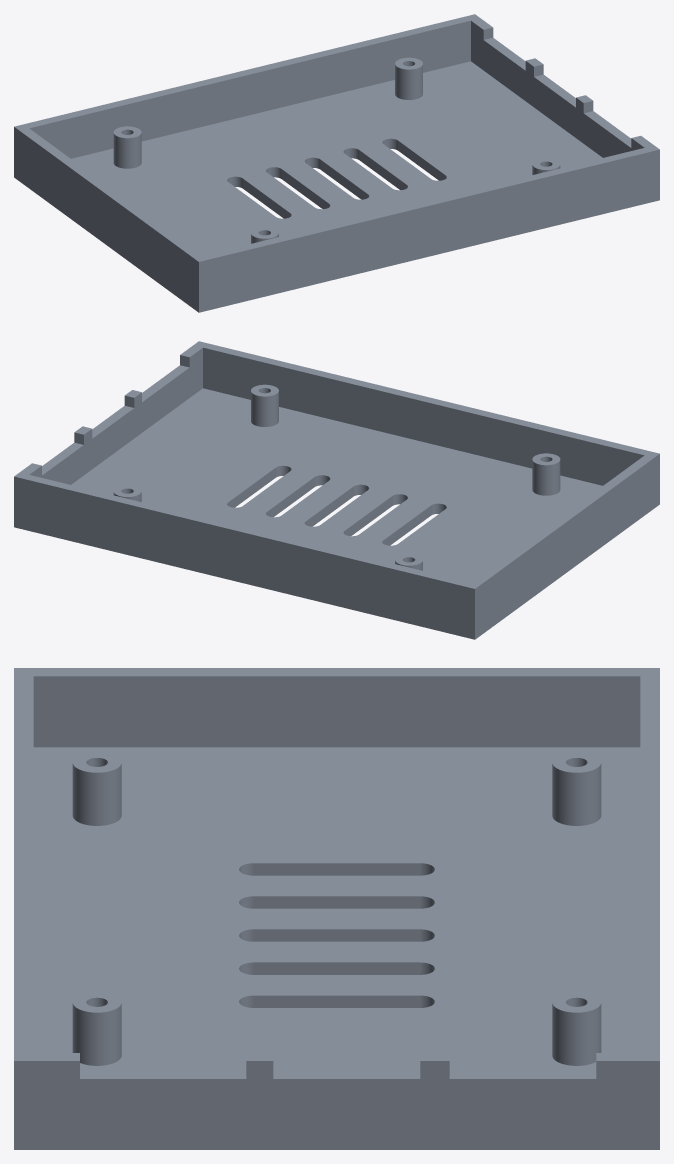
The model's file is step-4-preview-1.glb.
The picture shows the model from 3 angles, top to bottom: view 1: azimuth 30°, elevation 25°; view 2: azimuth 150°, elevation 25°; view 3: azimuth 270°, elevation 25°; orthographic projection. The views are drawn at different scales.
Parts seen in each view (by area): view 1: preview_41, preview_1, preview_8, preview_0, preview_2, preview_7, preview_44, preview_45, preview_14, preview_18, preview_22, preview_26 (+2 smaller); view 2: preview_41, preview_3, preview_10, preview_0, preview_2, preview_7, preview_42, preview_43, preview_14, preview_18, preview_22, preview_26 (+1 smaller); view 3: preview_41, preview_5, preview_9, preview_2, preview_42, preview_44, preview_45, preview_43, preview_12, preview_16, preview_20, preview_24 (+8 smaller).
Part boxes in pixels (x1=…): preview_41: x1=71, y1=61, x2=602, y2=255; preview_1: x1=199, y1=149, x2=659, y2=312; preview_8: x1=29, y1=20, x2=470, y2=158; preview_0: x1=14, y1=127, x2=198, y2=312; preview_2: x1=14, y1=14, x2=659, y2=261; preview_7: x1=471, y1=21, x2=644, y2=157; preview_44: x1=113, y1=133, x2=141, y2=168; preview_45: x1=395, y1=64, x2=422, y2=99; preview_14: x1=242, y1=178, x2=290, y2=218; preview_18: x1=281, y1=169, x2=329, y2=208; preview_22: x1=320, y1=159, x2=367, y2=199; preview_26: x1=359, y1=150, x2=406, y2=190; preview_41: x1=71, y1=388, x2=602, y2=582; preview_3: x1=14, y1=476, x2=474, y2=639; preview_10: x1=203, y1=347, x2=644, y2=485; preview_0: x1=475, y1=454, x2=659, y2=639; preview_2: x1=14, y1=341, x2=659, y2=588; preview_7: x1=29, y1=348, x2=202, y2=484; preview_42: x1=532, y1=460, x2=560, y2=495; preview_43: x1=251, y1=391, x2=278, y2=426; preview_14: x1=383, y1=505, x2=431, y2=545; preview_18: x1=344, y1=496, x2=392, y2=535; preview_22: x1=306, y1=486, x2=353, y2=526; preview_26: x1=267, y1=477, x2=314, y2=517; preview_41: x1=33, y1=747, x2=640, y2=1070; preview_5: x1=14, y1=1061, x2=659, y2=1149; preview_9: x1=33, y1=676, x2=640, y2=747; preview_2: x1=14, y1=668, x2=659, y2=1060; preview_42: x1=72, y1=763, x2=121, y2=825; preview_44: x1=552, y1=763, x2=601, y2=825; preview_45: x1=552, y1=1003, x2=601, y2=1065; preview_43: x1=72, y1=1003, x2=121, y2=1065; preview_12: x1=253, y1=863, x2=420, y2=875; preview_16: x1=253, y1=896, x2=420, y2=908; preview_20: x1=253, y1=929, x2=420, y2=941; preview_24: x1=253, y1=962, x2=420, y2=974.
Size of the model in its own units: 0.095 by 0.01 by 0.066.
